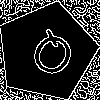Q: (21, 27, 80, 88)
